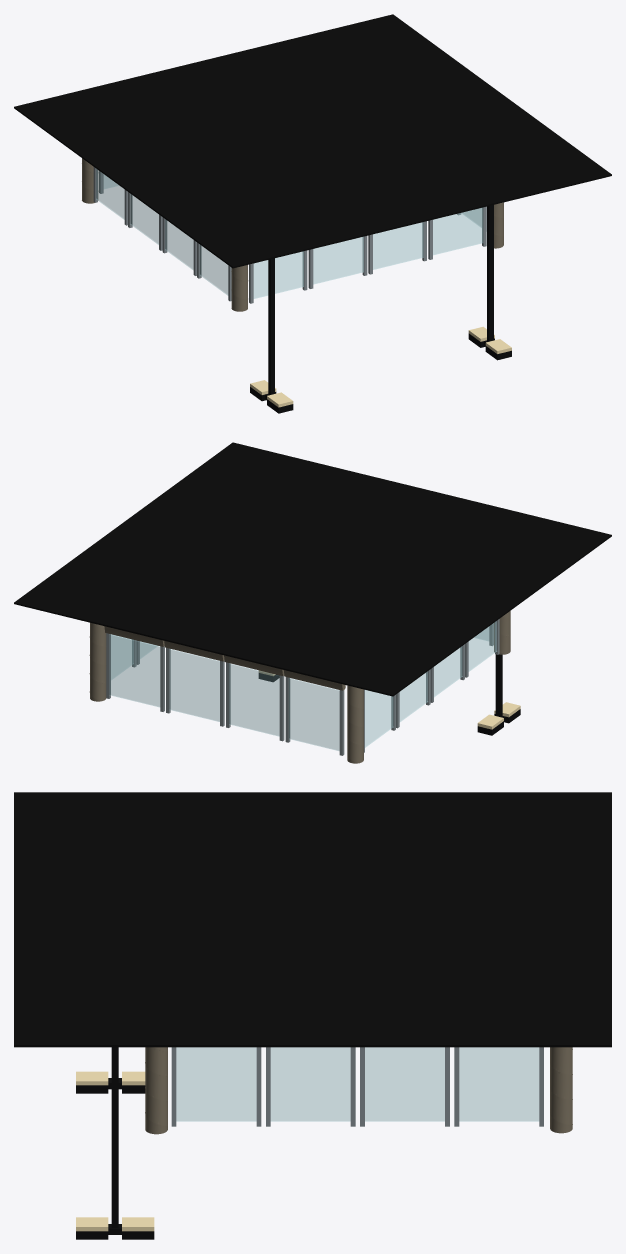
Rendered from parking_lot_arena (1).fbx.
3 renders of one model, top to bottom at view 1: azimuth 30°, elevation 25°; view 2: azimuth 150°, elevation 25°; view 3: azimuth 270°, elevation 25°, orthographic. The views are drawn at different scales.
Parts seen in each view (by area): view 1: Object_10, Object_2, Object_3, Object_8, Object_4, Object_6; view 2: Object_10, Object_2, Object_4, Object_3, Object_8, Object_6; view 3: Object_10, Object_2, Object_4, Object_3, Object_8, Object_6.
Boxes of the visible parts, box(x1,y1,x2,y2) form: Object_10: box(14, 14, 611, 268); Object_2: box(96, 169, 482, 298); Object_3: box(93, 167, 486, 303); Object_8: box(250, 205, 511, 413); Object_4: box(82, 158, 503, 311); Object_6: box(250, 326, 511, 407); Object_10: box(14, 442, 611, 696); Object_2: box(110, 621, 496, 750); Object_4: box(89, 611, 510, 763); Object_3: box(106, 619, 499, 755); Object_8: box(258, 654, 520, 735); Object_6: box(258, 670, 520, 729); Object_10: box(14, 792, 611, 1047); Object_2: box(176, 1047, 538, 1121); Object_4: box(145, 1047, 572, 1134); Object_3: box(171, 1047, 543, 1126); Object_8: box(76, 1047, 154, 1239); Object_6: box(76, 1071, 154, 1231).
Size of the model in its own units: 260 by 118 by 260.
